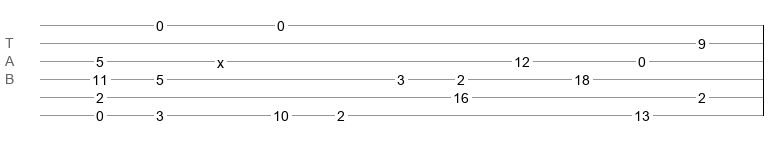0: (96, 108, 104, 118), (156, 18, 164, 28), (277, 18, 285, 28), (638, 54, 646, 64)
10: (273, 108, 289, 118)
11: (92, 72, 108, 82)
12: (514, 54, 530, 64)
13: (634, 108, 650, 118)
16: (453, 90, 469, 100)
18: (574, 72, 590, 82)
2: (96, 90, 104, 100), (337, 108, 345, 118), (457, 72, 465, 82), (698, 90, 706, 100)
3: (156, 108, 164, 118), (397, 72, 405, 82)
5: (96, 54, 104, 64), (156, 72, 164, 82)
9: (698, 36, 706, 46)
x: (217, 55, 224, 63)
